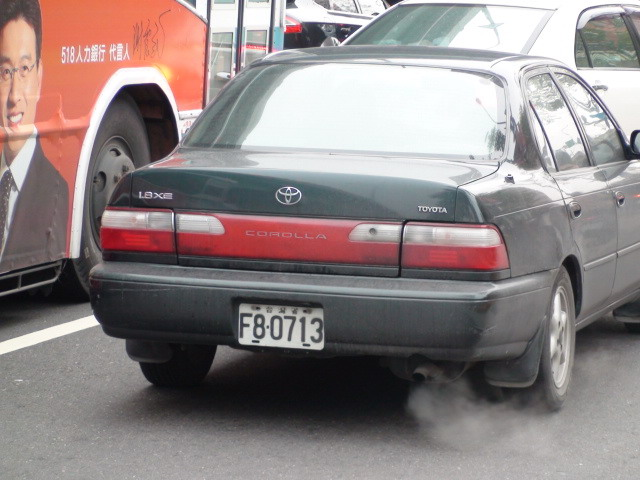plate: (236, 300, 329, 351)
